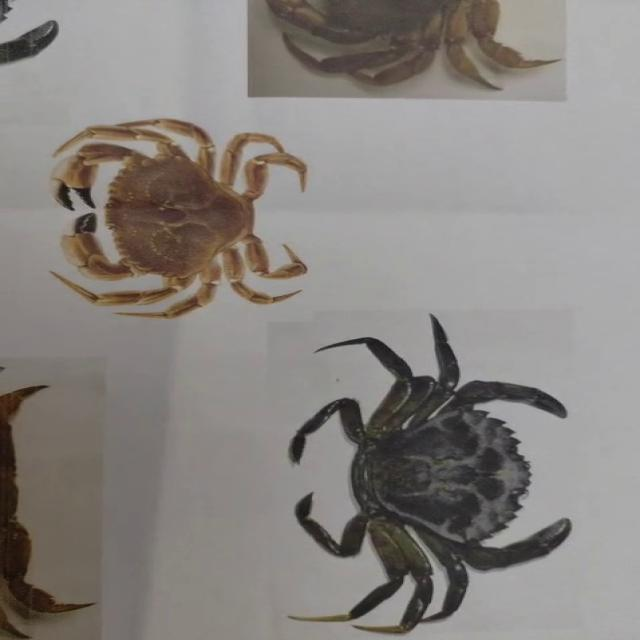egc: (289, 315, 570, 633)
